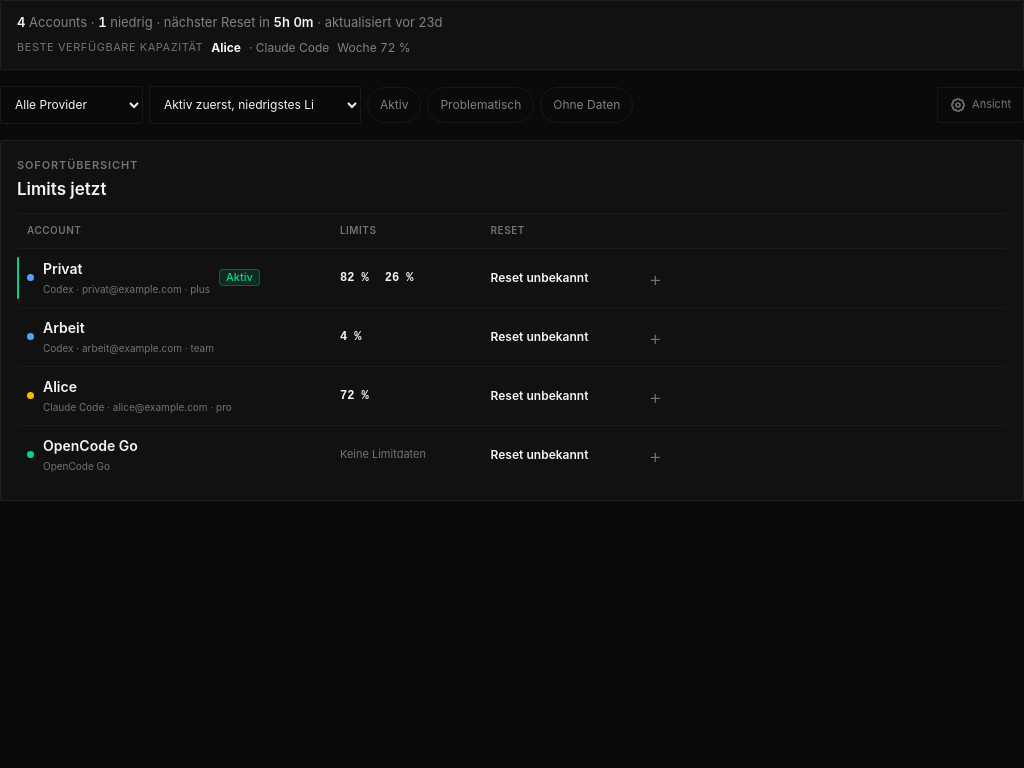
Test: UsageOverview › zeigt die E-Mail im Dialog, wenn aktiviert
Click the button with aria-label "Arbeit Details". click: {"x": 512, "y": 336}
box: [17,308,1007,366]
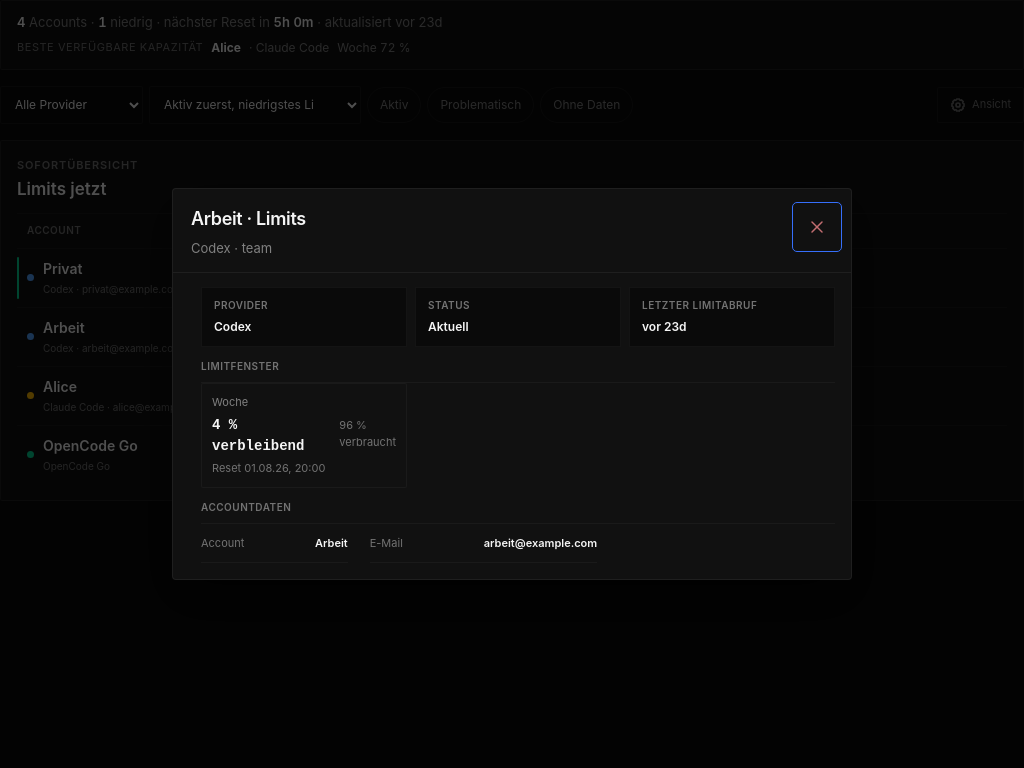
Now the text "arbeit@example.com" is shown, box [484,535,597,551]
